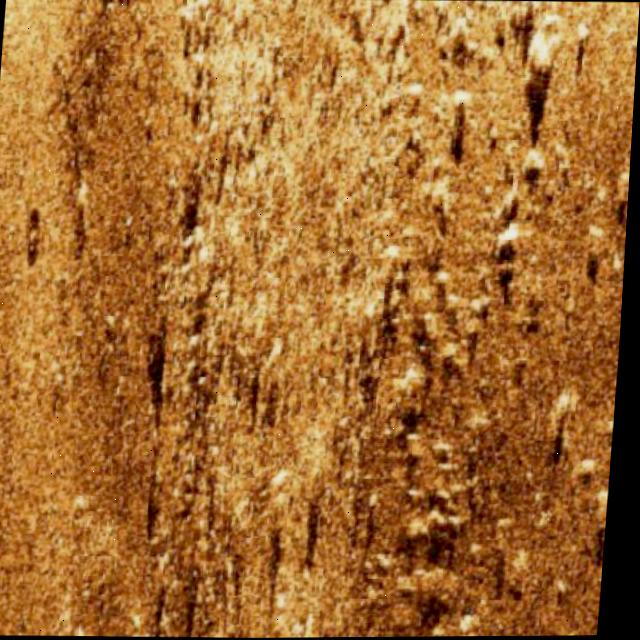bedrock group: (130, 0, 580, 639)
